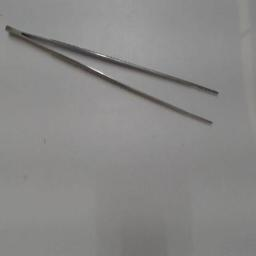DeBakey Dissector: (1, 15, 225, 135)
